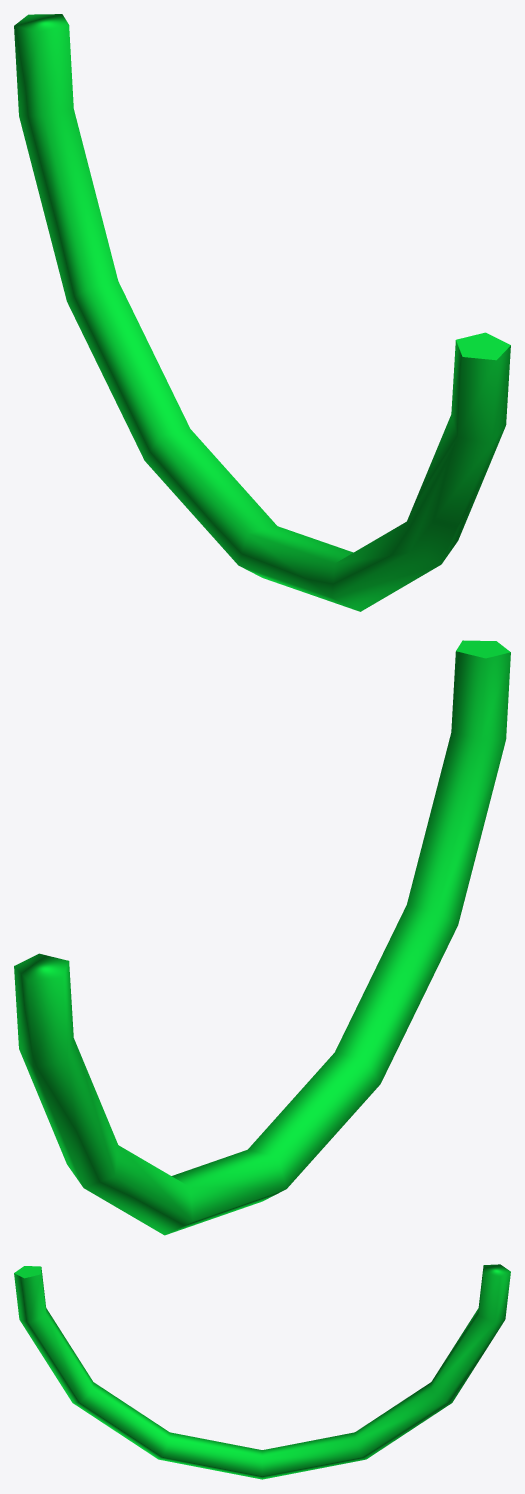
File: Pipe_Ring_180.fbx
3 views of the same model, one above another, from view 1: azimuth 30°, elevation 25°; view 2: azimuth 150°, elevation 25°; view 3: azimuth 270°, elevation 25° (orthographic). The views are drawn at different scales.
Parts seen in each view (by area): view 1: Pipe_Ring_180; view 2: Pipe_Ring_180; view 3: Pipe_Ring_180.
Part boxes in pixels (<box>): Pipe_Ring_180: <box>14,14,510,611</box>; Pipe_Ring_180: <box>14,640,510,1235</box>; Pipe_Ring_180: <box>14,1264,510,1479</box>.
Size of the model in its own units: 0.2254 by 1.76 by 3.78.
